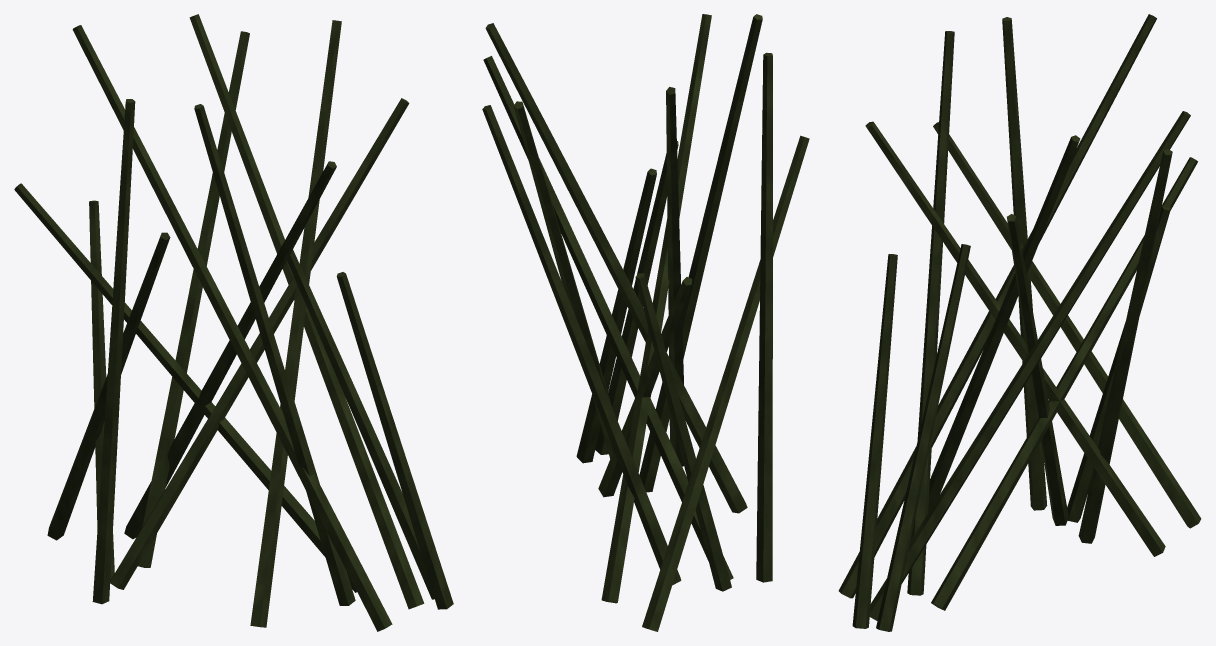
File: Reed_Patch.glb
3 views of the same model, side by side, from view 1: azimuth 30°, elevation 25°; view 2: azimuth 150°, elevation 25°; view 3: azimuth 270°, elevation 25° (orthographic). The views are drawn at different scales.
Parts seen in each view (by area): view 1: Reed_Patch; view 2: Reed_Patch; view 3: Reed_Patch.
Boxes of the visible parts, <box> form: Reed_Patch: <box>14,14,453,631</box>; Reed_Patch: <box>482,14,809,631</box>; Reed_Patch: <box>838,14,1201,631</box>.
Size of the model in its own units: 0.4709 by 0.7893 by 0.5052.
1 material, 1 textured.
